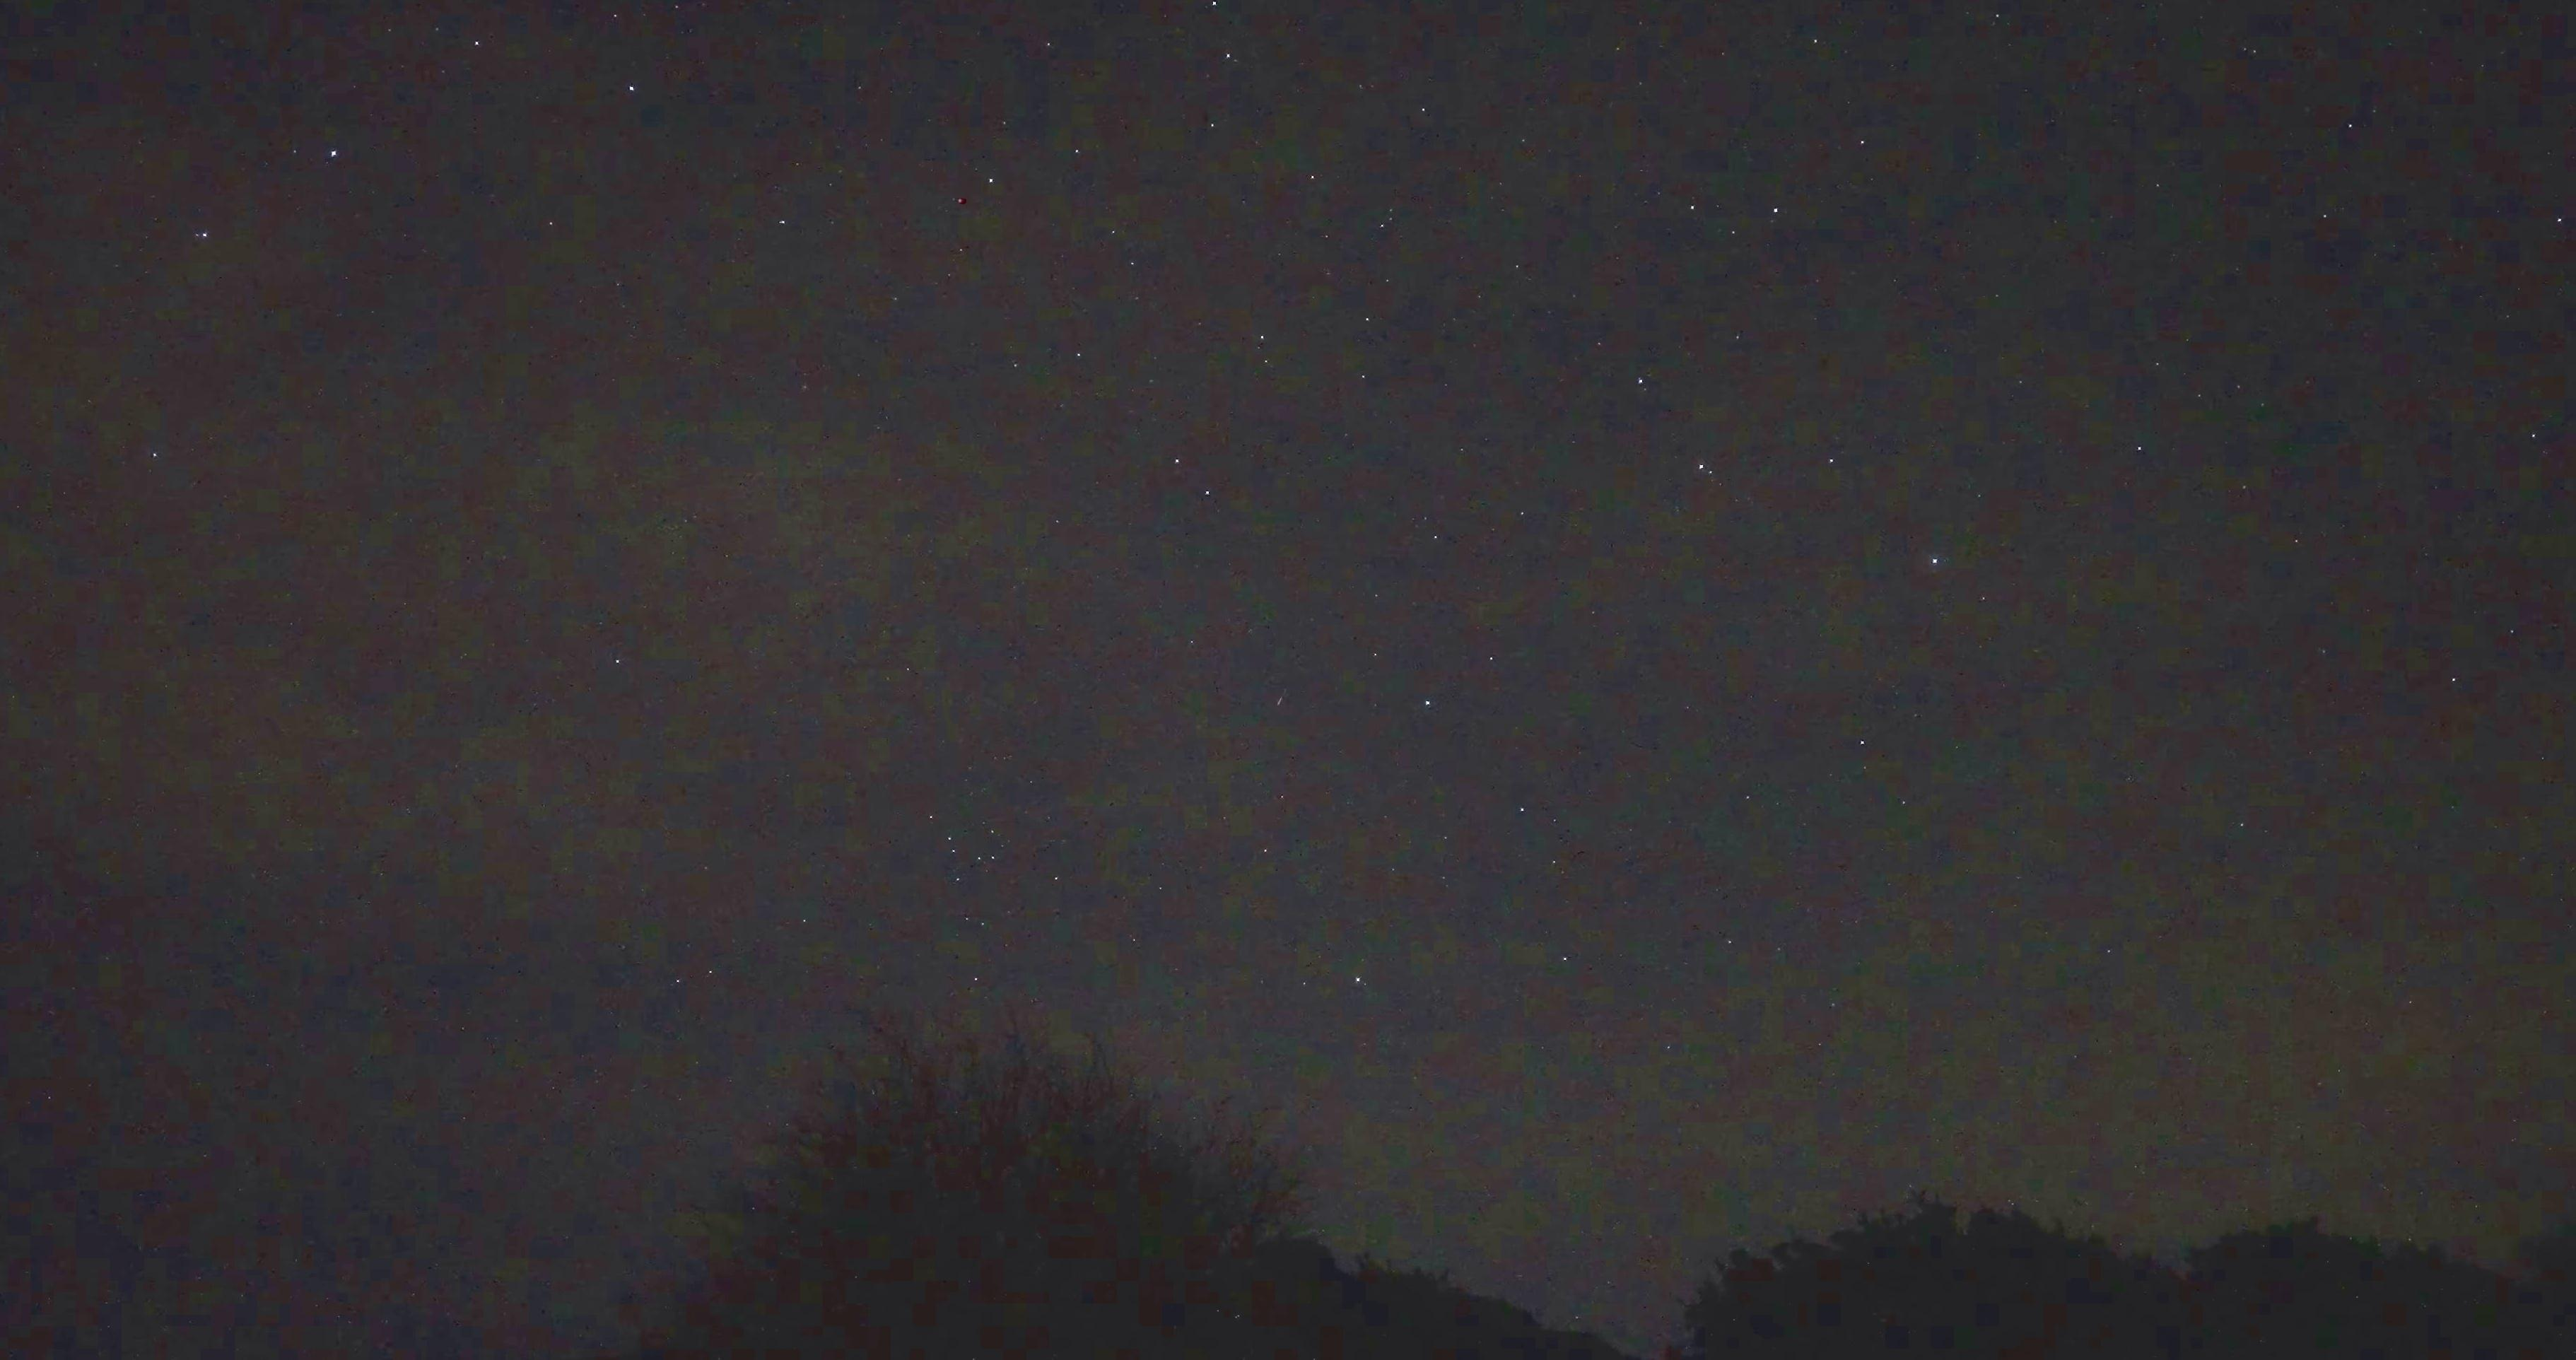Plane: (934, 182, 988, 216)
